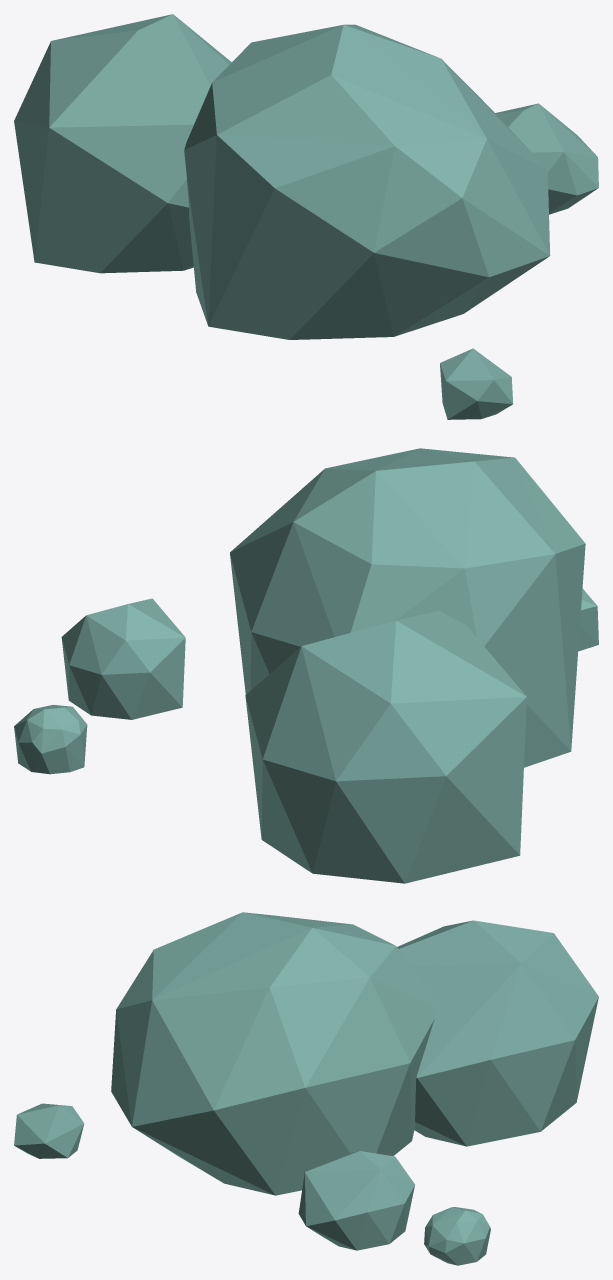
File: ROCKS_2.fbx
The picture shows the model from 3 angles, top to bottom: view 1: azimuth 30°, elevation 25°; view 2: azimuth 150°, elevation 25°; view 3: azimuth 270°, elevation 25°; orthographic projection. The views are drawn at different scales.
Parts seen in each view (by area): view 1: ROCK_2; view 2: ROCK_2; view 3: ROCK_2.
Part boxes in pixels (left/top/right/bottom): ROCK_2: left=14, top=14, right=598, bottom=419; ROCK_2: left=14, top=448, right=598, bottom=883; ROCK_2: left=14, top=912, right=598, bottom=1265.
Bounding box in the file's own units: 427 × 222 × 509.
